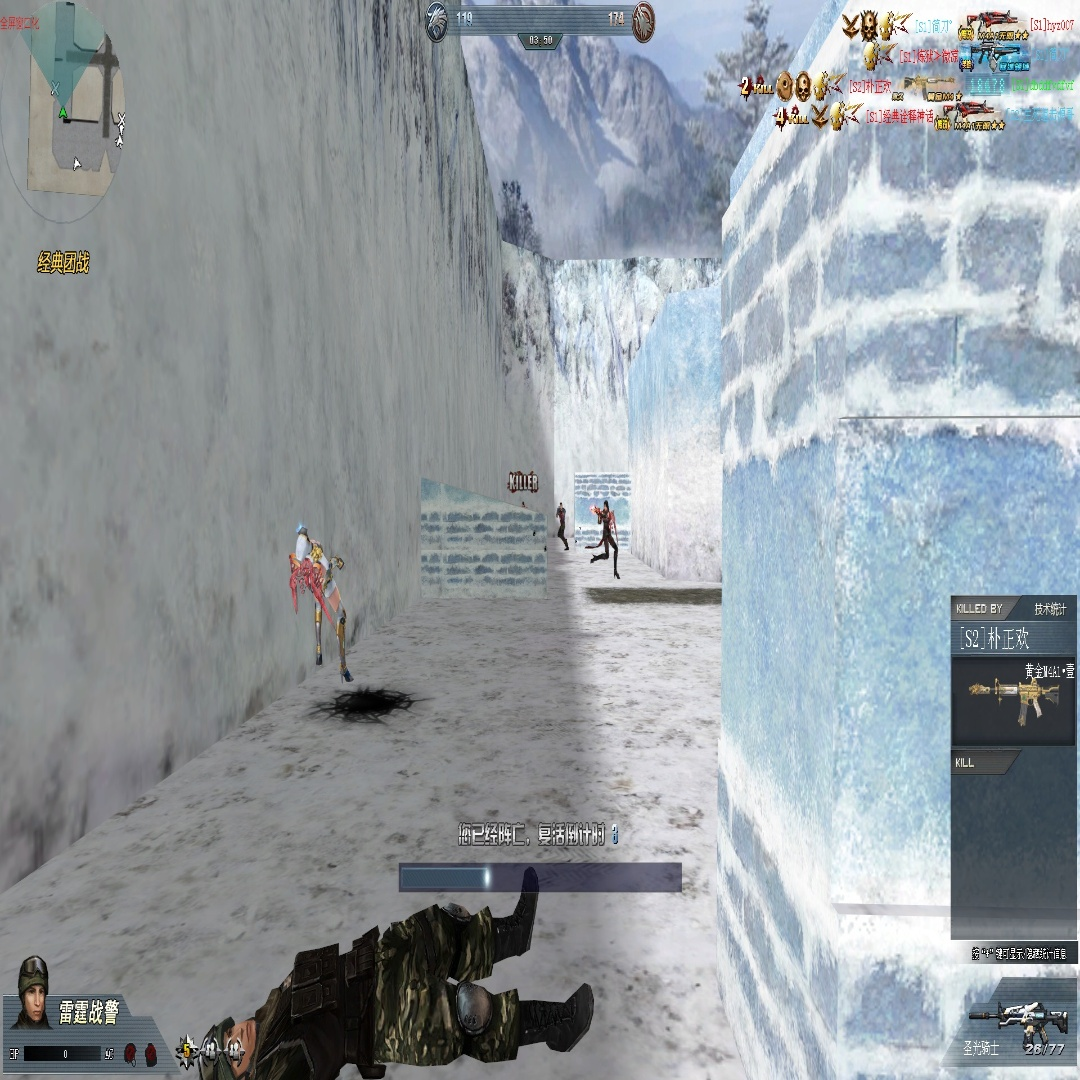t: (598, 499, 619, 580), (556, 502, 568, 546)
